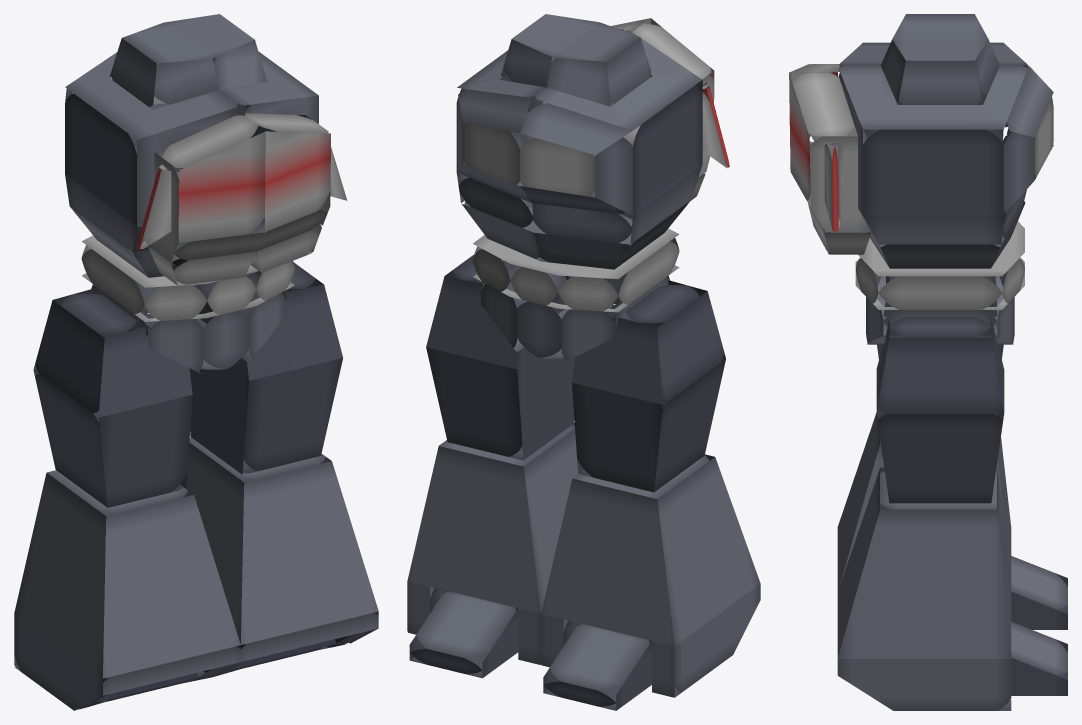
Rendered from Charge Body.obj.
3 renders of one model, left to right at view 1: azimuth 30°, elevation 25°; view 2: azimuth 150°, elevation 25°; view 3: azimuth 270°, elevation 25°, orthographic. The views are drawn at different scales.
Visible parts, largest first — view 1: Shin, Body, Thigh, Pelvis; view 2: Shin, Body, Thigh, Pelvis, Toe; view 3: Body, Shin, Thigh, Pelvis, Toe.
Part boxes in pixels (box(x1,y1,x2,y2)): Shin: box(14, 437, 378, 710); Body: box(65, 14, 347, 285); Thigh: box(33, 262, 342, 507); Pelvis: box(81, 235, 294, 373); Shin: box(407, 422, 760, 697); Body: box(456, 14, 729, 269); Thigh: box(426, 255, 725, 492); Pelvis: box(472, 228, 679, 362); Toe: box(409, 590, 651, 710); Body: box(789, 14, 1053, 268); Shin: box(837, 412, 1011, 710); Thigh: box(876, 276, 1004, 503); Pelvis: box(855, 221, 1024, 344); Toe: box(1011, 556, 1067, 695).
Size of the model in its own units: 0.55 by 1.18 by 0.4919.
Materials: 1 (1 with a texture image).
